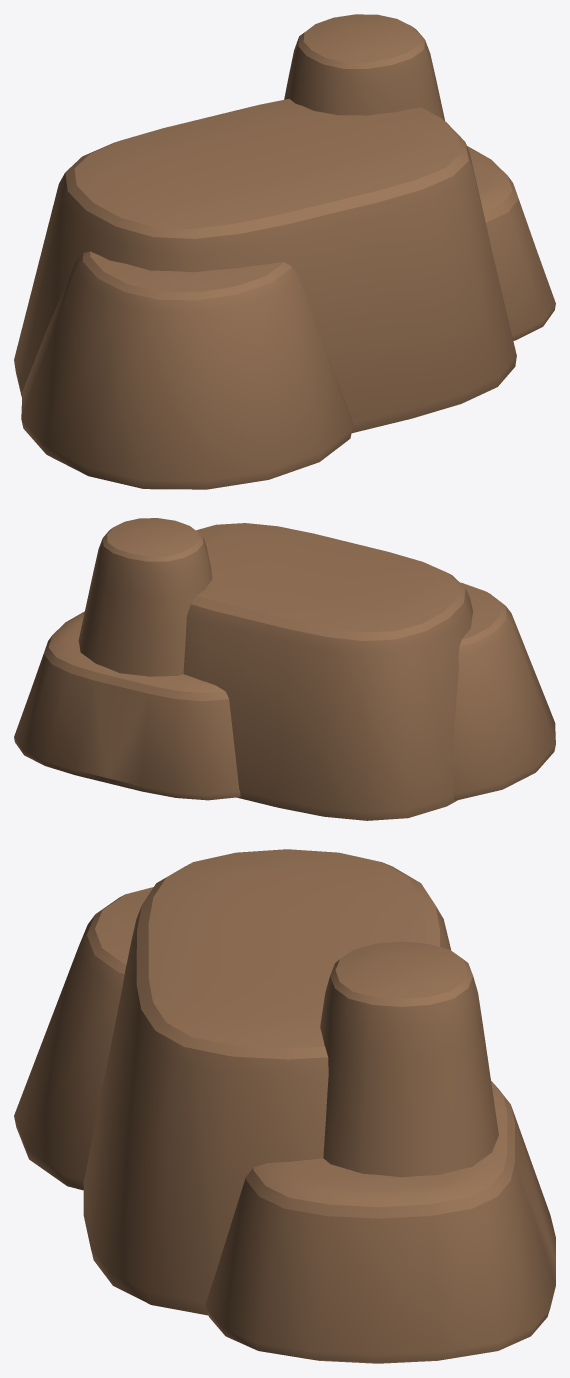
File: quaternius-platformer-game-rock-platforms-2.glb
The picture shows the model from 3 angles, top to bottom: view 1: azimuth 30°, elevation 25°; view 2: azimuth 150°, elevation 25°; view 3: azimuth 270°, elevation 25°; orthographic projection. The views are drawn at different scales.
Parts seen in each view (by area): view 1: RockPlatforms_2; view 2: RockPlatforms_2; view 3: RockPlatforms_2.
Part boxes in pixels (left/top/right/bottom): RockPlatforms_2: left=14, top=14, right=555, bottom=489; RockPlatforms_2: left=14, top=518, right=555, bottom=820; RockPlatforms_2: left=14, top=849, right=555, bottom=1363.
Bounding box in the file's own units: 9.32 × 4.45 × 6.74.
